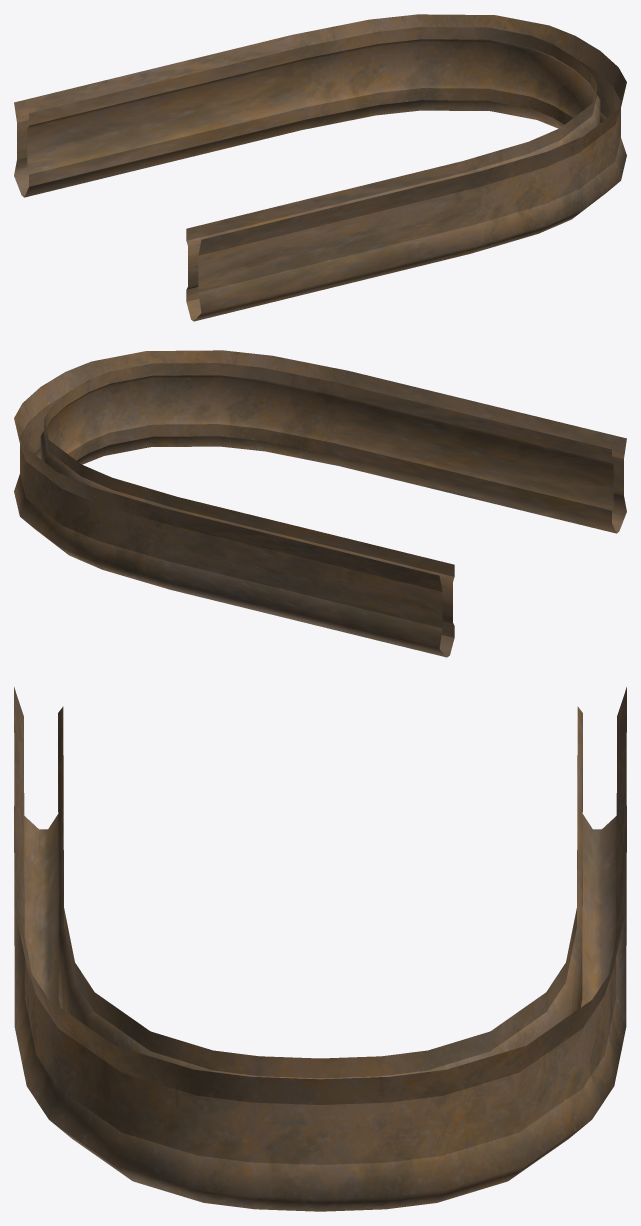
File: Bar_peregorodka.fbx
3 renders of one model, top to bottom at view 1: azimuth 30°, elevation 25°; view 2: azimuth 150°, elevation 25°; view 3: azimuth 270°, elevation 25°, orthographic. The views are drawn at different scales.
Parts seen in each view (by area): view 1: ТраекторияNurbs.000; view 2: ТраекторияNurbs.000; view 3: ТраекторияNurbs.000.
Boxes of the visible parts, x1,y1,x2,y2 form: ТраекторияNurbs.000: (14,14,626,321); ТраекторияNurbs.000: (14,350,626,657); ТраекторияNurbs.000: (14,687,626,1211).
Size of the model in its own units: 243 by 41.22 by 160.
1 material, 1 textured.
